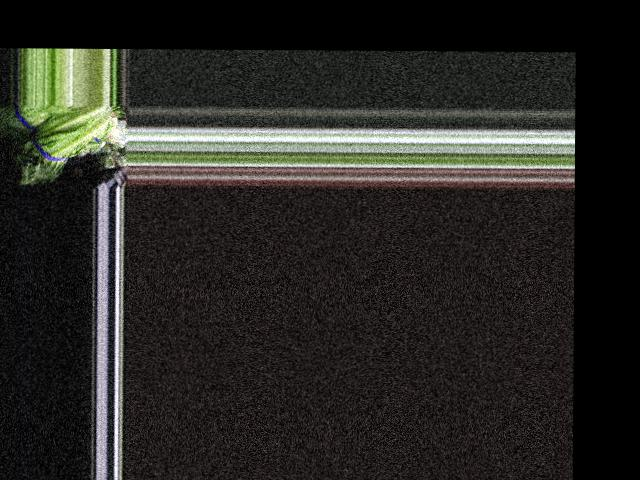lettuce: (14, 104, 106, 180)
